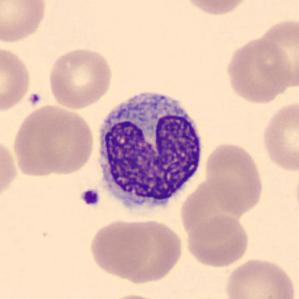Monocyte: (90, 82, 209, 222)
Platelets: (78, 187, 101, 208), (28, 91, 43, 107)
RBC: (11, 104, 95, 178), (223, 36, 294, 106), (113, 217, 185, 284), (203, 140, 266, 216), (45, 46, 114, 111), (87, 218, 153, 278), (183, 213, 252, 268), (252, 16, 298, 91), (222, 256, 298, 299), (259, 98, 298, 174), (0, 43, 33, 113), (0, 0, 49, 44), (0, 134, 19, 205), (179, 0, 254, 17), (101, 292, 169, 299)
